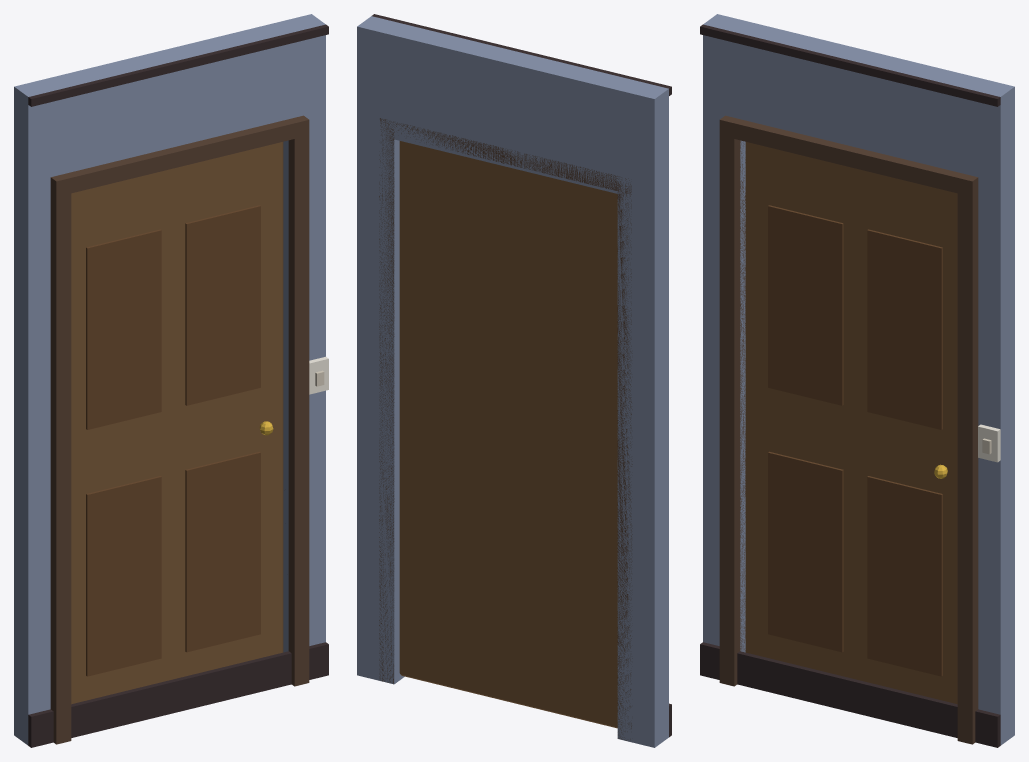
File: wall_door.fbx
3 views of the same model, side by side, from view 1: azimuth 30°, elevation 25°; view 2: azimuth 150°, elevation 25°; view 3: azimuth 330°, elevation 25° (orthographic).
Parts seen in each view (by area): view 1: door, wall_door; view 2: door, wall_door; view 3: door, wall_door.
Boxes of the visible parts, x1,y1,x2,y2 form: door: (71, 142, 283, 704); wall_door: (14, 14, 328, 747); door: (399, 141, 617, 728); wall_door: (357, 14, 671, 747); door: (745, 142, 957, 704); wall_door: (700, 14, 1014, 747).
Size of the model in its own units: 1.2 by 2.5 by 0.14.
